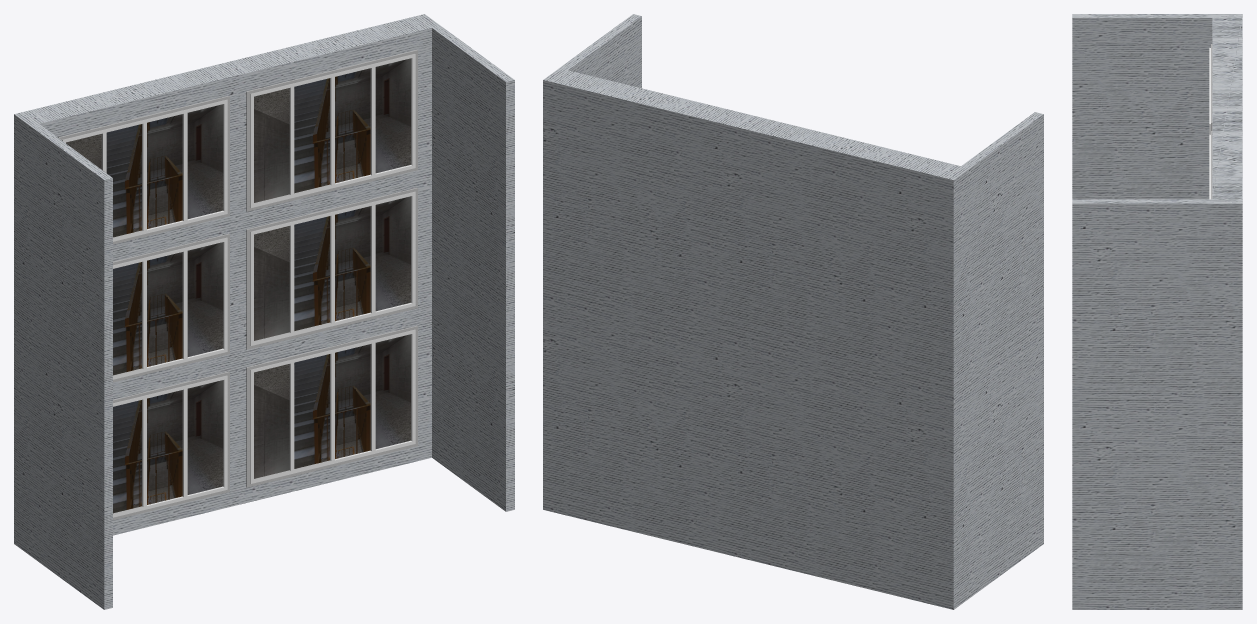
The model's file is LichtGang.glb.
The picture shows the model from 3 angles, left to right: view 1: azimuth 30°, elevation 25°; view 2: azimuth 150°, elevation 25°; view 3: azimuth 270°, elevation 25°; orthographic projection. The views are drawn at different scales.
Parts seen in each view (by area): view 1: Cube.005, Cube.012; view 2: Cube.005; view 3: Cube.005, Cube.012.
Part boxes in pixels (<box>): Cube.005: <box>14,14,514,609</box>; Cube.012: <box>58,50,417,520</box>; Cube.005: <box>543,14,1043,609</box>; Cube.005: <box>1072,14,1242,609</box>; Cube.012: <box>1209,44,1212,199</box>.
Size of the model in its own units: 6.65 by 6.65 by 2.53.
Materials: 4 (4 with a texture image).
